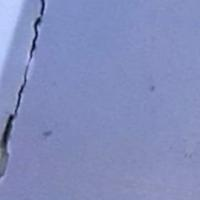crack: (0, 0, 51, 162)
